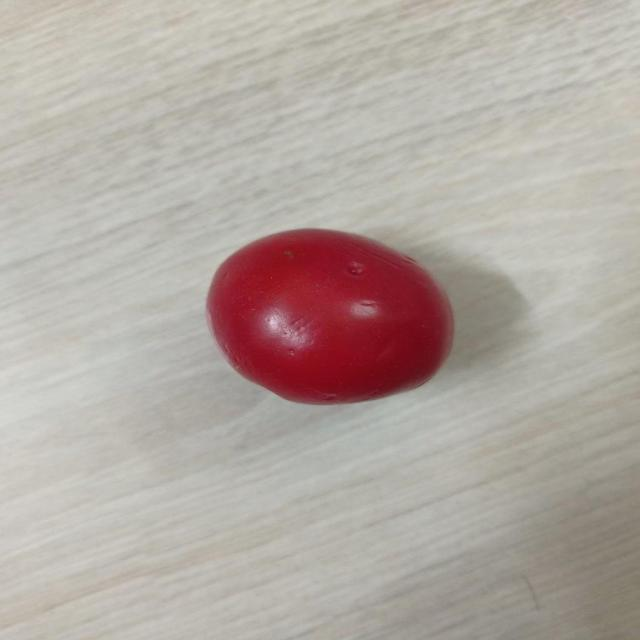Ripe: (198, 221, 466, 408)
